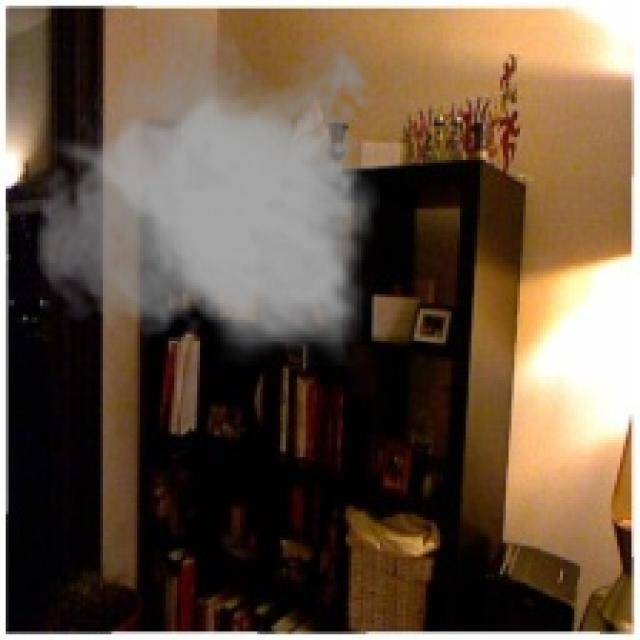smoke: (31, 11, 380, 366)
